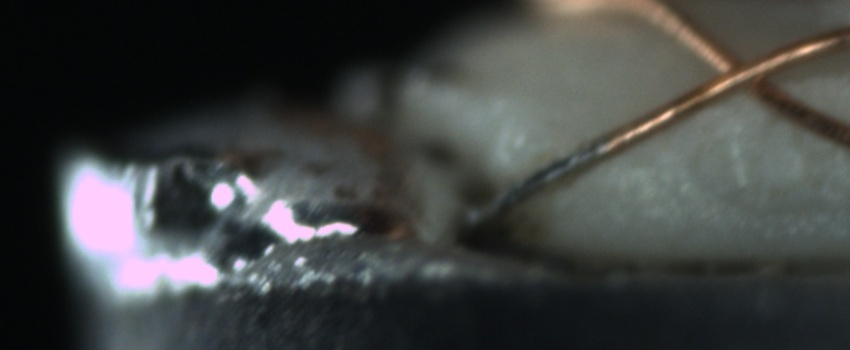CL: (691, 35, 795, 110)
TS: (464, 142, 601, 231)
